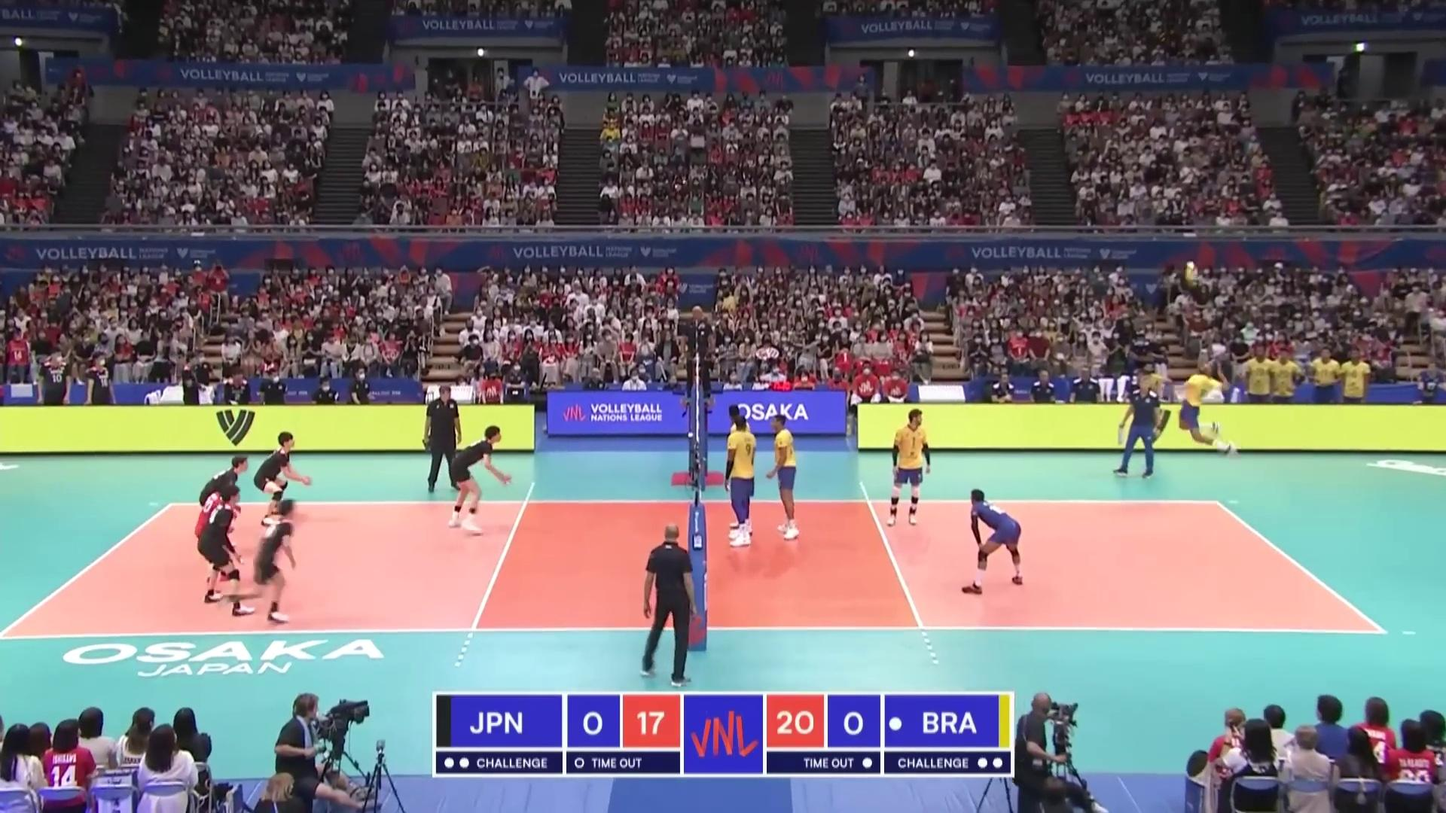player: (198, 486, 253, 615), (243, 500, 300, 621), (449, 425, 508, 538), (963, 490, 1024, 595), (1179, 363, 1239, 457), (255, 431, 313, 525), (195, 480, 246, 579), (888, 409, 928, 526), (767, 413, 803, 540), (720, 404, 756, 531), (195, 456, 252, 534), (725, 417, 755, 548)
refree: (640, 525, 697, 686), (685, 308, 711, 401)
